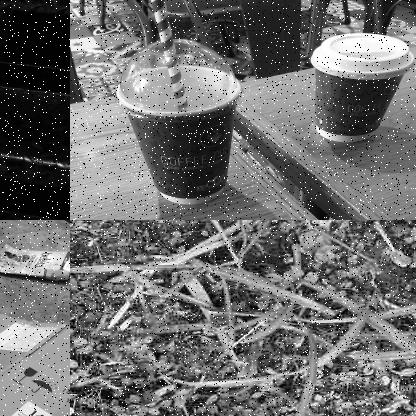cardboard: (0, 285, 69, 415), (0, 243, 69, 282)
plastic: (111, 38, 237, 205), (308, 30, 414, 145)
